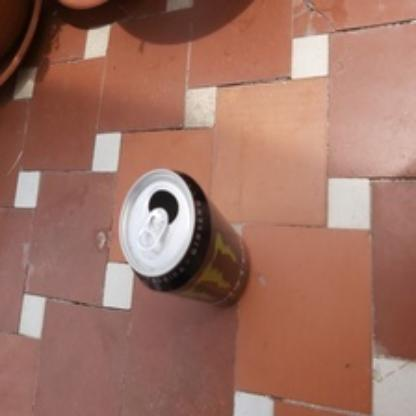Can: (116, 166, 252, 312)
